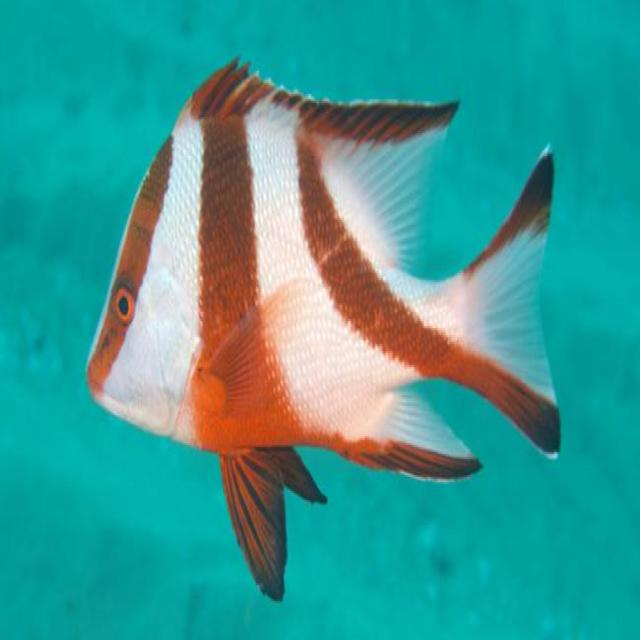ikan: (85, 53, 561, 601)
